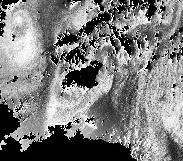CE: (8, 8, 35, 31)
